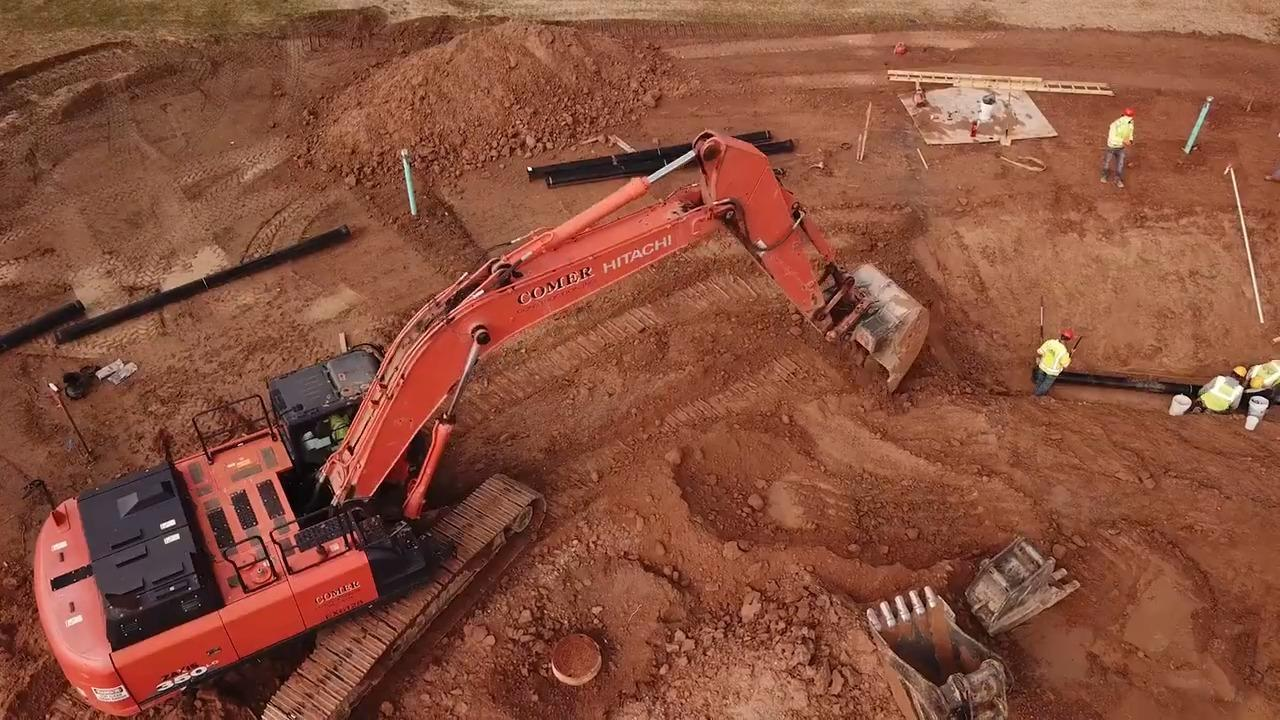Helmet: (1233, 366, 1247, 378), (1122, 107, 1136, 116), (1062, 329, 1073, 338)
Person: (1100, 107, 1136, 189), (1036, 328, 1076, 396), (1199, 366, 1252, 414)
Safety Vest: (1209, 375, 1240, 411), (1041, 341, 1068, 375), (1110, 120, 1130, 148)
